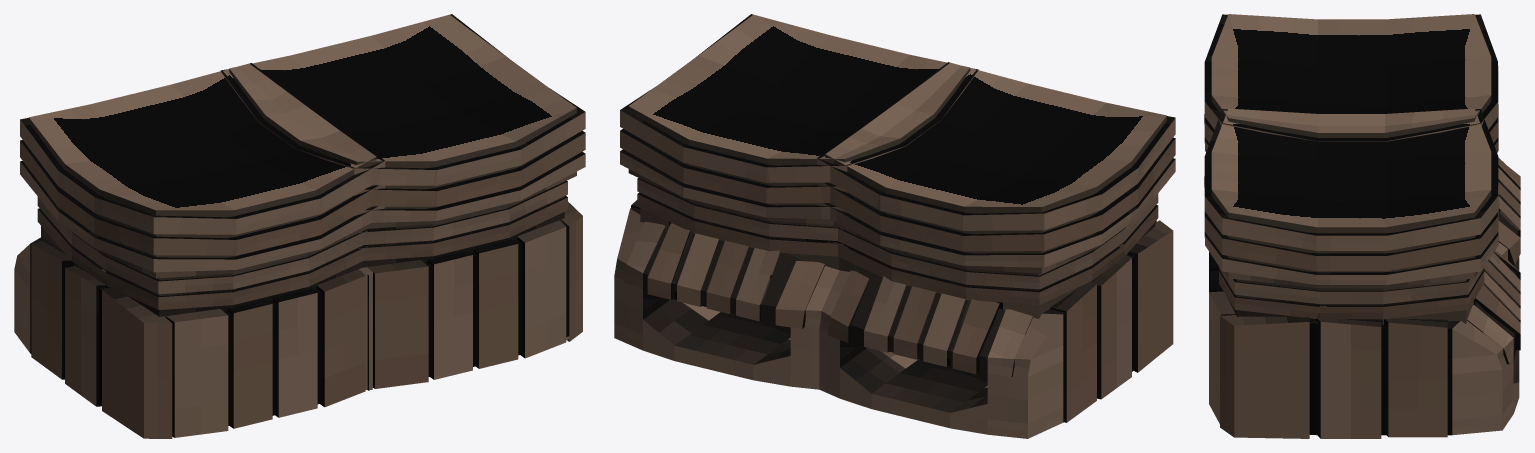
The picture shows the model from 3 angles, left to right: view 1: azimuth 30°, elevation 25°; view 2: azimuth 150°, elevation 25°; view 3: azimuth 270°, elevation 25°; orthographic projection. The views are drawn at different scales.
Parts seen in each view (by area): view 1: left_leg, right_leg; view 2: left_leg, right_leg; view 3: right_leg, left_leg.
Part boxes in pixels (box(x1,y1,x2,y2)): left_leg: box(14, 63, 385, 438); right_leg: box(220, 14, 585, 389); left_leg: box(817, 62, 1175, 438); right_leg: box(614, 14, 978, 389); right_leg: box(1204, 108, 1520, 438); left_leg: box(1204, 14, 1520, 270).
Size of the model in its own units: 0.565 by 0.2721 by 0.3532.
1 material, 1 textured.
